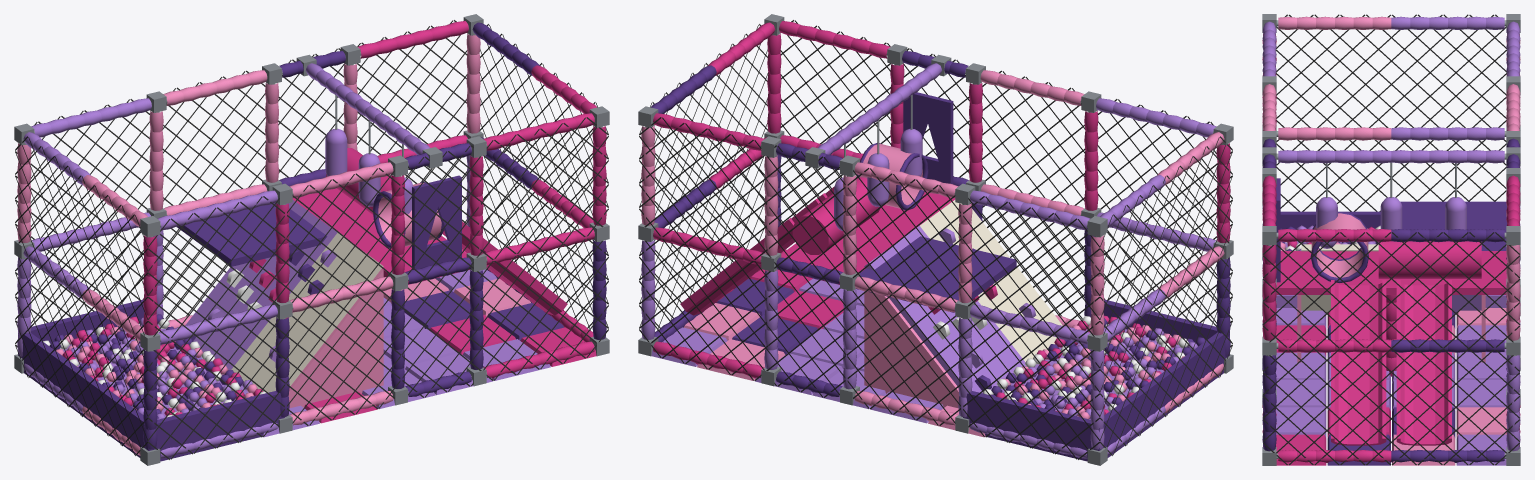
Rendered from mini.glb.
3 renders of one model, left to right at view 1: azimuth 30°, elevation 25°; view 2: azimuth 150°, elevation 25°; view 3: azimuth 270°, elevation 25°, orthographic. The views are drawn at different scales.
Parts seen in each view (by area): view 1: isotubo, rede, plataforma, acolchoado, piso, bolinhas, metal, plastico; view 2: isotubo, rede, plataforma, acolchoado, piso, bolinhas, metal, plastico; view 3: isotubo, rede, plastico, piso, plataforma, acolchoado, metal, bolinhas.
Boxes of the visible parts, bbox=[...] form: isotubo: bbox=[17, 21, 606, 458]; rede: bbox=[15, 20, 608, 459]; plataforma: bbox=[176, 175, 469, 408]; acolchoado: bbox=[18, 128, 443, 461]; piso: bbox=[262, 269, 596, 437]; bolinhas: bbox=[43, 314, 265, 419]; metal: bbox=[14, 14, 609, 465]; plastico: bbox=[191, 221, 567, 362]; isotubo: bbox=[641, 21, 1230, 458]; rede: bbox=[639, 20, 1232, 459]; plataforma: bbox=[778, 92, 1062, 408]; acolchoado: bbox=[792, 128, 1229, 461]; piso: bbox=[651, 269, 985, 437]; bolinhas: bbox=[983, 315, 1205, 419]; metal: bbox=[638, 14, 1233, 465]; plastico: bbox=[680, 186, 1036, 391]; isotubo: bbox=[1262, 16, 1520, 462]; rede: bbox=[1263, 14, 1519, 465]; plastico: bbox=[1331, 280, 1451, 445]; piso: bbox=[1263, 308, 1519, 465]; plataforma: bbox=[1275, 178, 1507, 362]; acolchoado: bbox=[1276, 197, 1506, 307]; metal: bbox=[1262, 14, 1520, 465]; bolinhas: bbox=[1280, 225, 1380, 250].
Bounding box in the file's own units: 0.4 × 0.2 × 0.2.
8 materials, 7 textured.
